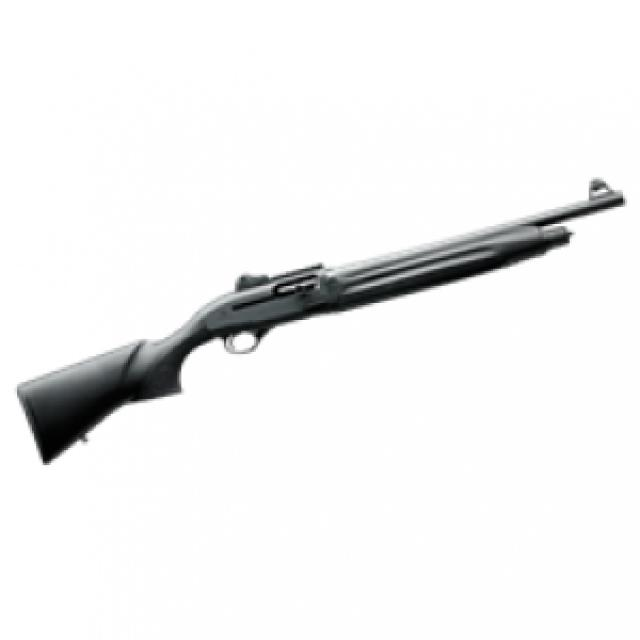rifle: (19, 178, 627, 471)
